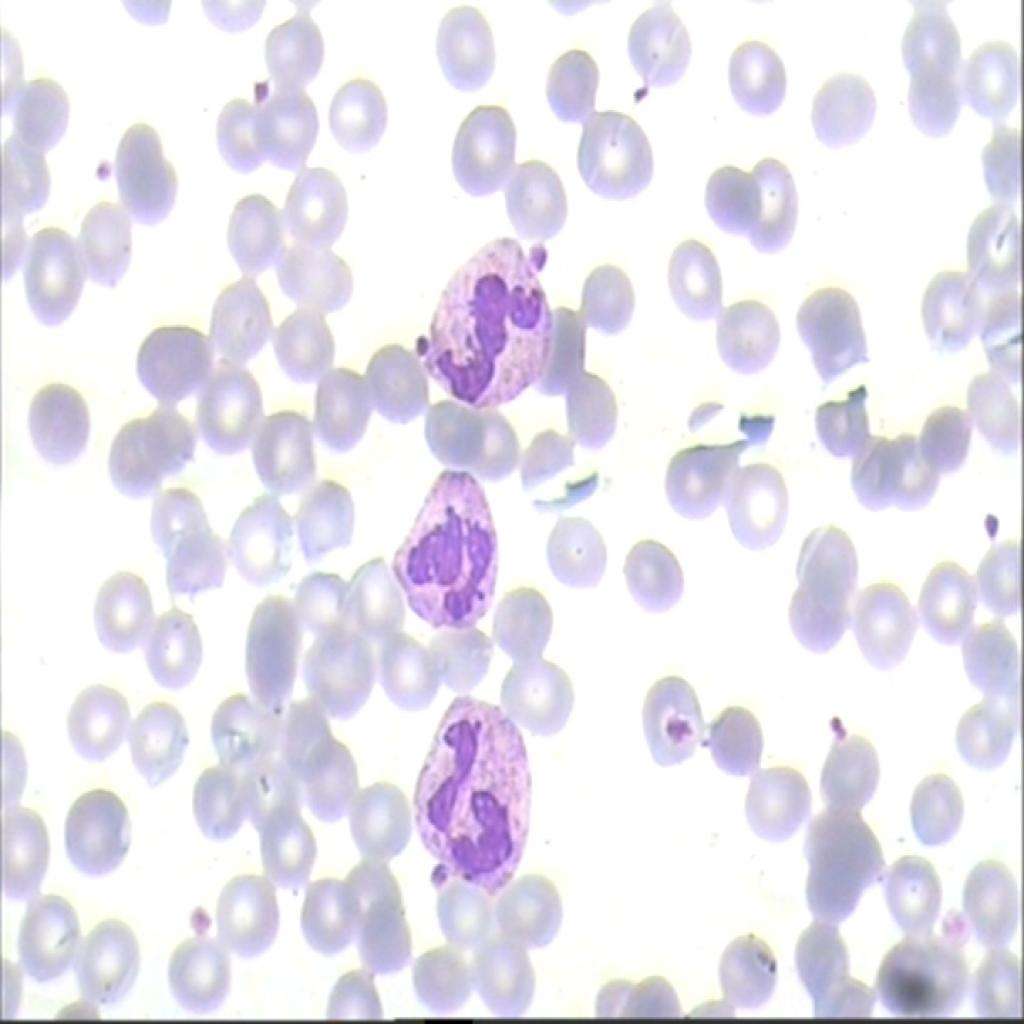Neutrofil: (402, 686, 534, 902), (422, 229, 554, 418), (380, 448, 503, 636)
Platelet: (82, 140, 114, 198), (528, 231, 559, 285), (815, 706, 855, 745), (185, 884, 210, 944), (659, 704, 691, 750), (976, 503, 1004, 546), (243, 66, 269, 110), (406, 329, 430, 355)
